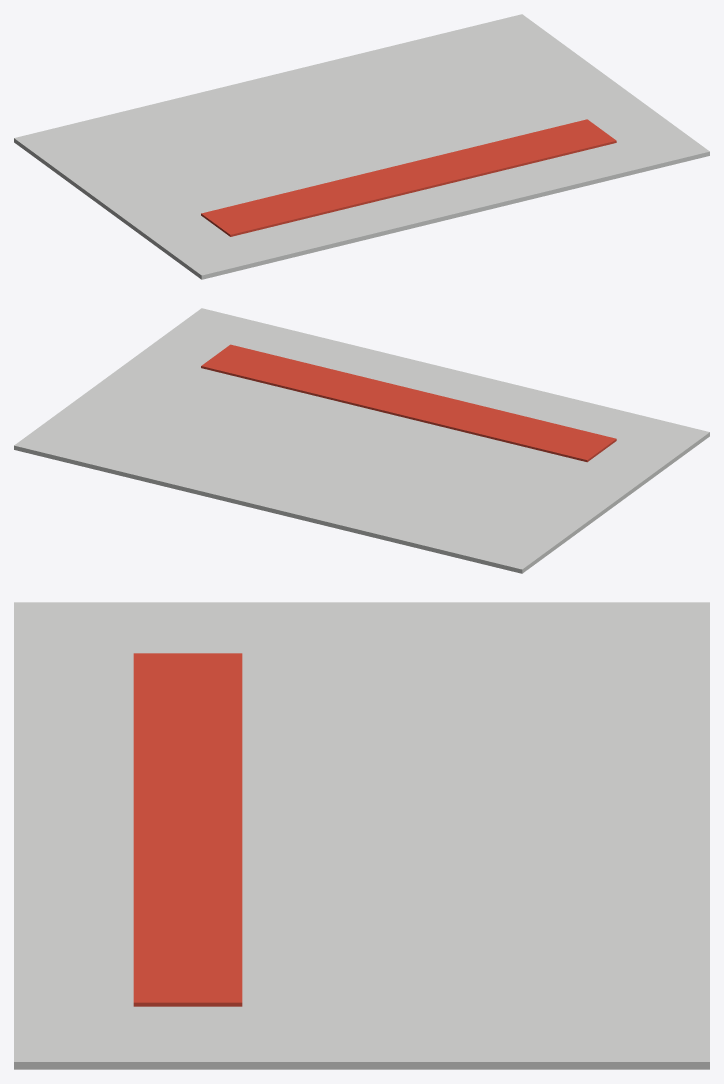
The model's file is road-car-showroom-lineup-used-car-sticker-f2675f80__15148.glb.
3 views of the same model, one above another, from view 1: azimuth 30°, elevation 25°; view 2: azimuth 150°, elevation 25°; view 3: azimuth 270°, elevation 25° (orthographic). The views are drawn at different scales.
Visible parts, largest first — view 1: used-car-sticker; view 2: used-car-sticker; view 3: used-car-sticker.
Boxes of the visible parts, x1=… form: used-car-sticker: x1=14, y1=14, x2=709, y2=279; used-car-sticker: x1=14, y1=308, x2=709, y2=573; used-car-sticker: x1=14, y1=602, x2=709, y2=1069.
Size of the model in its own units: 0.25 by 0.003 by 0.16.
